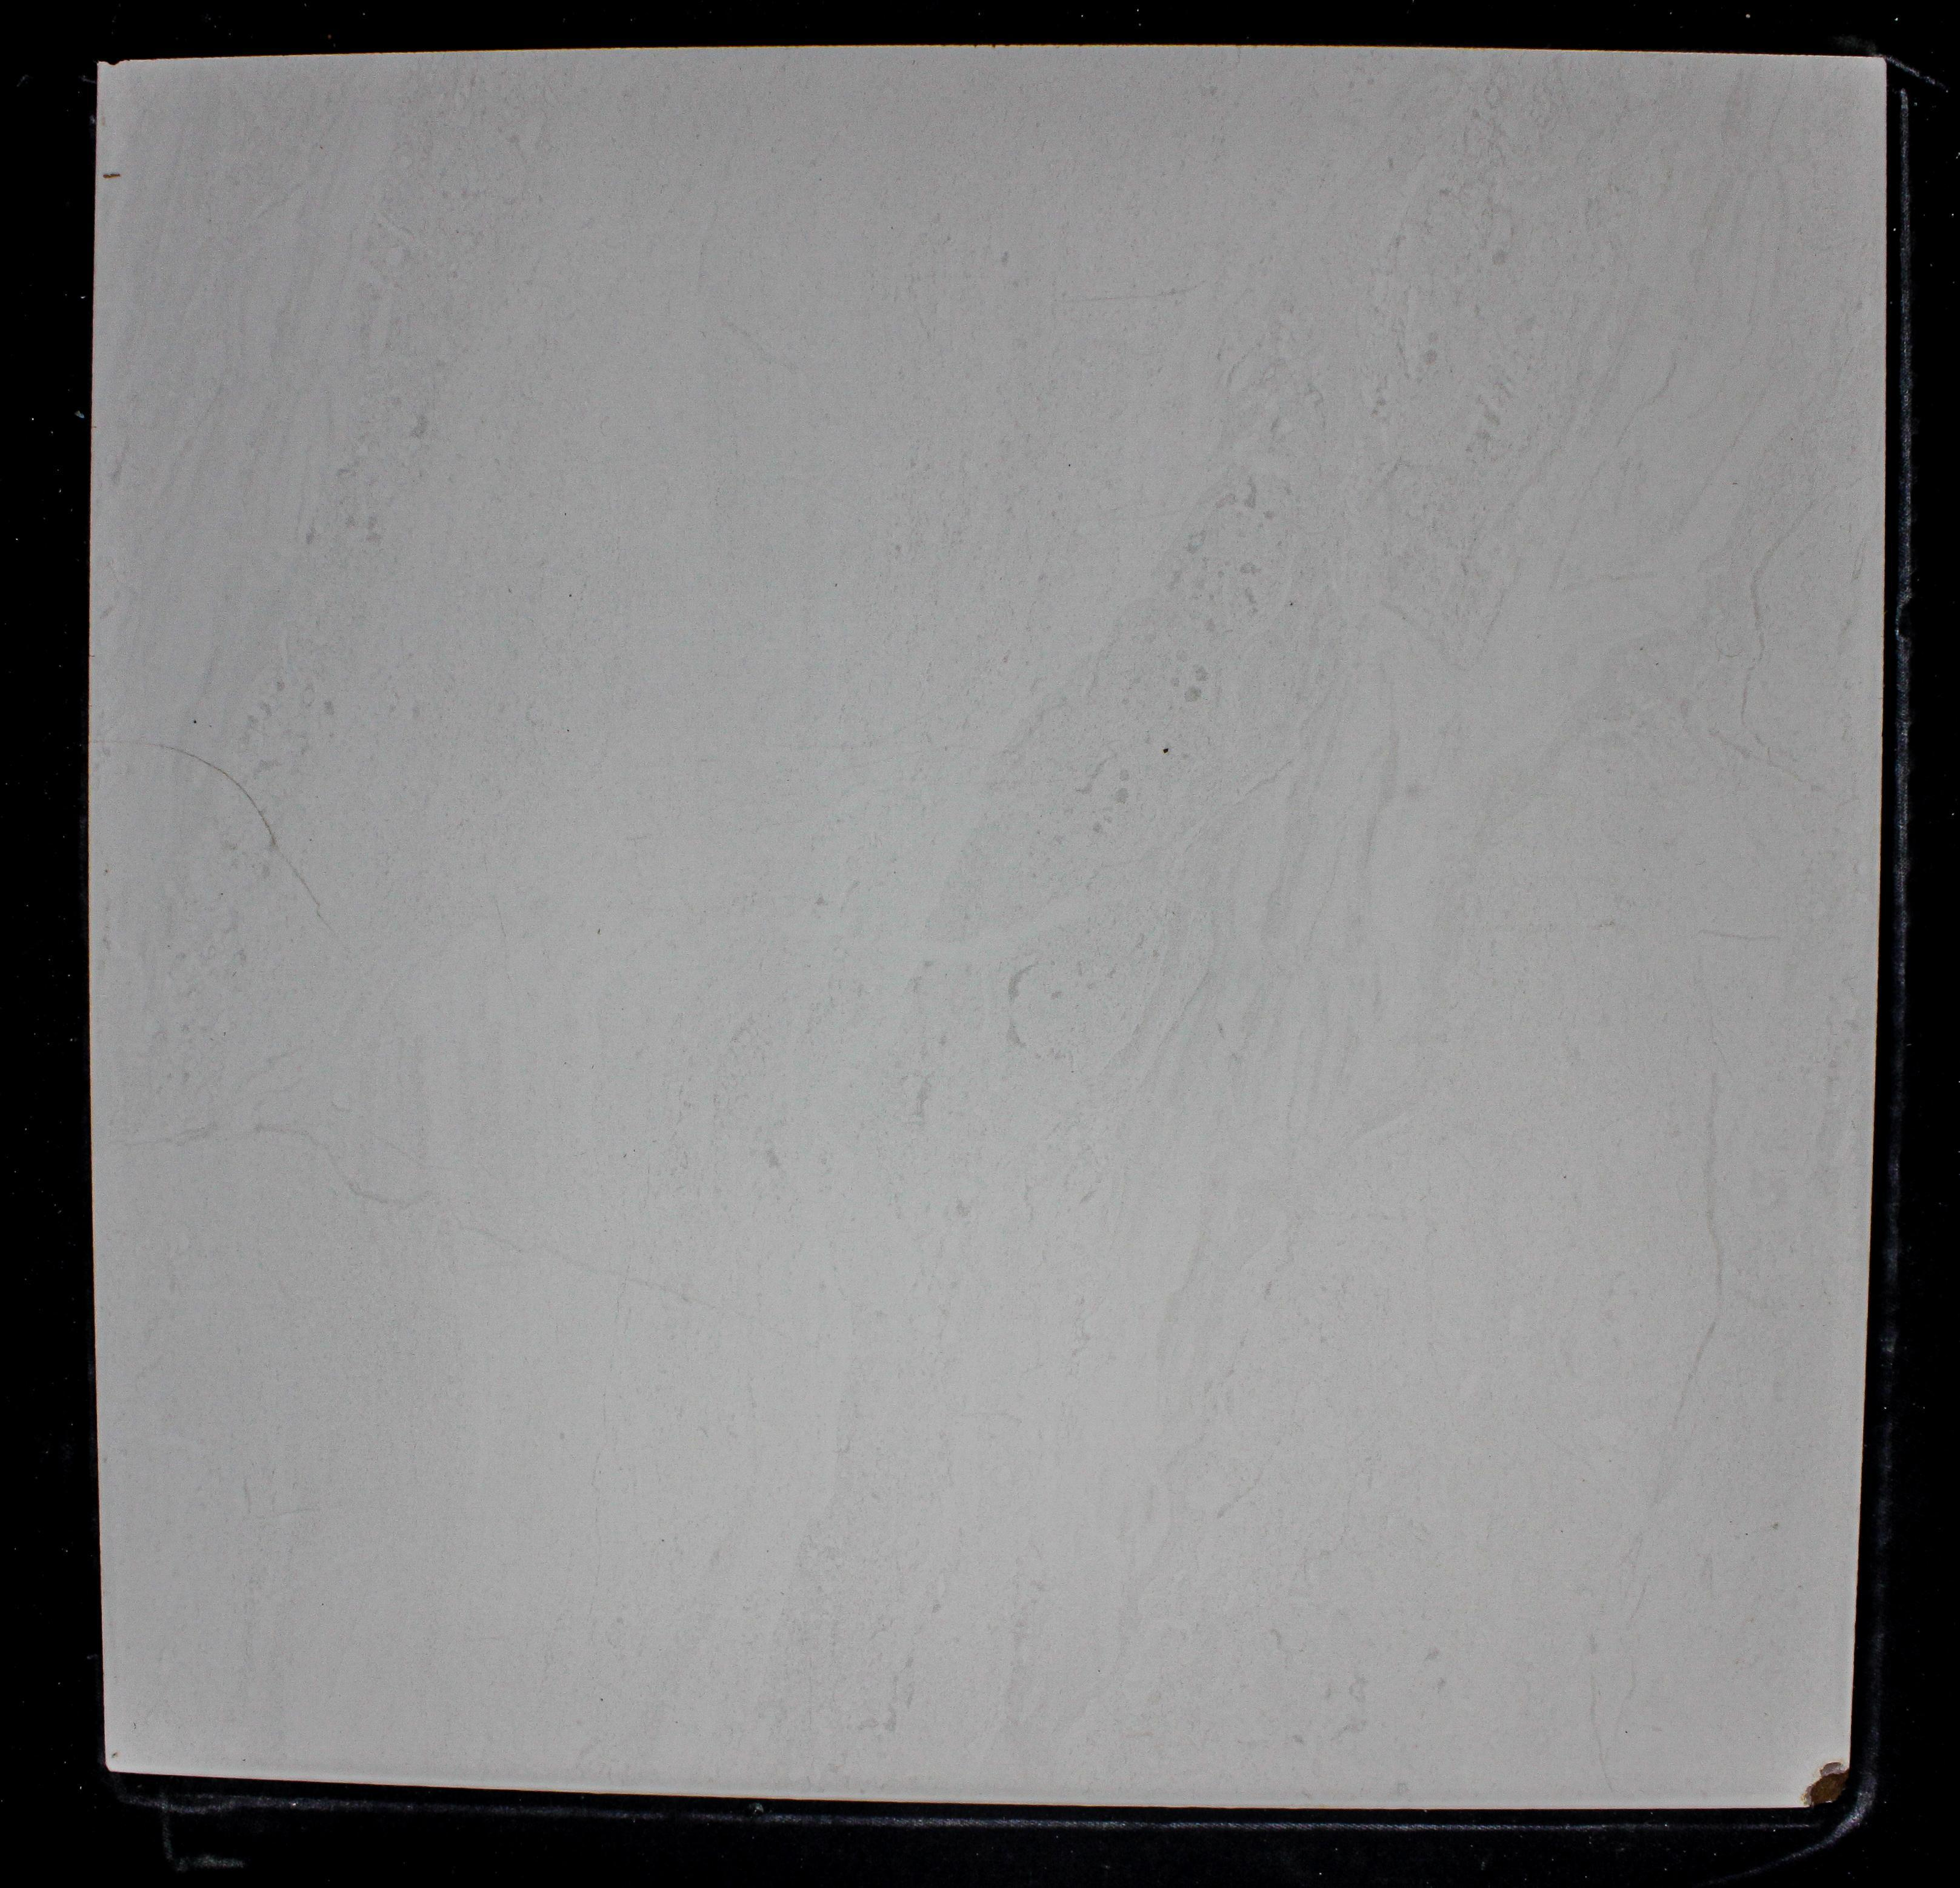edge-chipping: (1799, 1755, 1853, 1811), (93, 52, 154, 73)
hole: (1162, 745, 1171, 756), (191, 719, 198, 724)
line: (143, 740, 348, 947), (103, 171, 122, 178)
